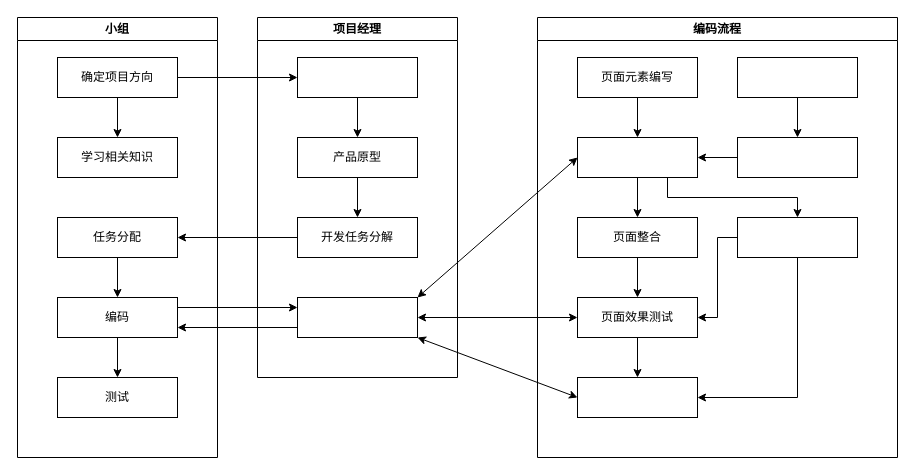
Image size: 915x475. Some labels were removed from this diagram. The shapes that lost their labels are listed below. From the top down, each one's centre as x and y in pixels, then its label:
At point (357, 77): "需求分析".
At point (797, 77): "数据结构设计".
At point (637, 157): "页面功能编写".
At point (797, 157): "数据管理接口编写".
At point (797, 237): "跨组件数据联通".
At point (357, 317): "评估".
At point (637, 397): "虚拟机运行测试".
